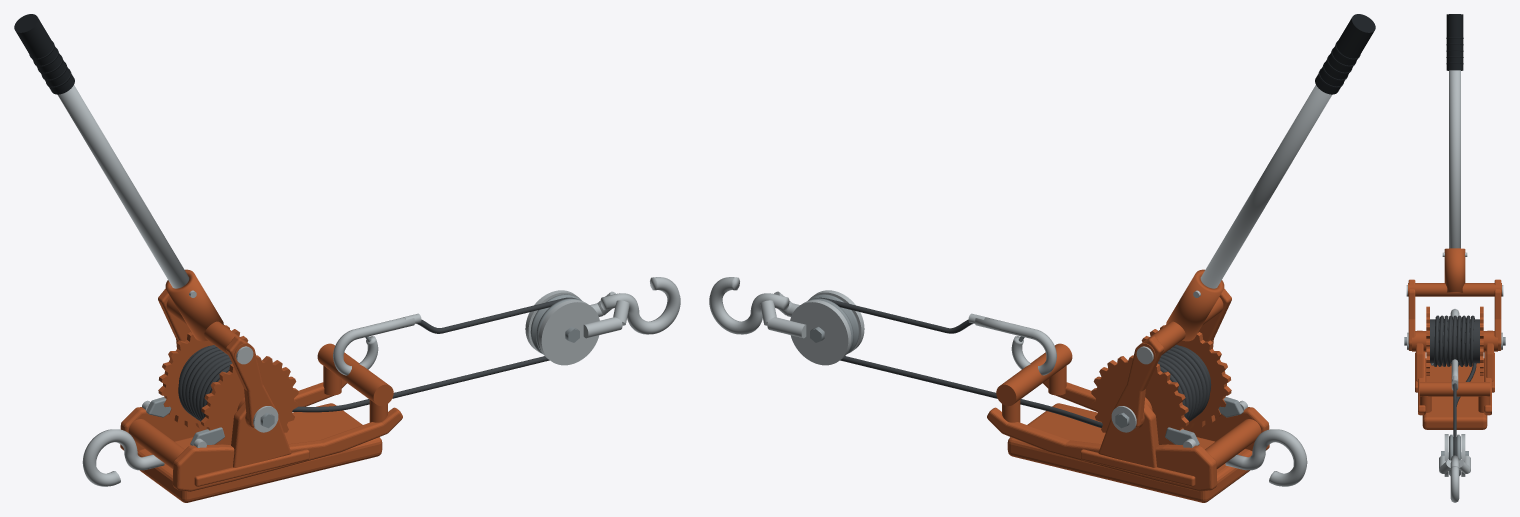
3 renders of one model, left to right at view 1: azimuth 30°, elevation 25°; view 2: azimuth 150°, elevation 25°; view 3: azimuth 270°, elevation 25°, orthographic. The views are drawn at different scales.
Parts seen in each view (by area): view 1: Low tray bottom, Continuous wound cable and double line, Hollow inserted steel lever, Curved cast side rail -1, Toothed reel flange -1, Tackle block cheek -1, Frame bearing support -1, Rounded molded lever grip, Fixed rear frame hook, Toothed reel flange 1, Tackle block load hook, Angled hollow lever socket (+7 smaller); view 2: Low tray bottom, Continuous wound cable and double line, Hollow inserted steel lever, Curved cast side rail 1, Toothed reel flange 1, Tackle block cheek 1, Frame bearing support 1, Rounded molded lever grip, Fixed rear frame hook, Toothed reel flange -1, Tackle block load hook, Angled hollow lever socket (+7 smaller); view 3: Low tray bottom, Continuous wound cable and double line, Hollow inserted steel lever, Yoke upper crossbridge, Cable drum core, Raised front hook anchor crossbar, Rounded molded lever grip, Angled hollow lever socket, Raised lever fork -1, Raised lever fork 1, Tackle block load hook, Frame bearing support -1 (+13 smaller).
Boxes of the visible parts, <box> form: Low tray bottom: <box>137,403,382,502</box>; Continuous wound cable and double line: <box>178,297,576,421</box>; Hollow inserted steel lever: <box>58,85,189,288</box>; Curved cast side rail -1: <box>172,407,402,491</box>; Toothed reel flange -1: <box>201,355,298,444</box>; Tackle block cheek -1: <box>538,300,599,365</box>; Frame bearing support -1: <box>231,401,291,467</box>; Rounded molded lever grip: <box>14,14,74,94</box>; Fixed rear frame hook: <box>82,429,164,486</box>; Toothed reel flange 1: <box>158,325,248,428</box>; Tackle block load hook: <box>600,277,680,334</box>; Angled hollow lever socket: <box>165,269,223,341</box>; Low tray bottom: <box>1007,403,1252,502</box>; Continuous wound cable and double line: <box>815,297,1210,427</box>; Hollow inserted steel lever: <box>1200,85,1331,288</box>; Curved cast side rail 1: <box>987,407,1217,491</box>; Toothed reel flange 1: <box>1091,355,1188,444</box>; Tackle block cheek 1: <box>790,300,851,365</box>; Frame bearing support 1: <box>1098,401,1158,467</box>; Rounded molded lever grip: <box>1315,14,1375,94</box>; Fixed rear frame hook: <box>1225,429,1307,486</box>; Toothed reel flange -1: <box>1141,325,1231,428</box>; Tackle block load hook: <box>709,277,789,334</box>; Angled hollow lever socket: <box>1166,269,1224,341</box>; Low tray bottom: <box>1422,358,1487,429</box>; Continuous wound cable and double line: <box>1433,315,1476,455</box>; Hollow inserted steel lever: <box>1449,70,1460,248</box>; Yoke upper crossbridge: <box>1408,283,1501,296</box>; Cable drum core: <box>1430,319,1479,363</box>; Raised front hook anchor crossbar: <box>1419,382,1490,396</box>; Rounded molded lever grip: <box>1446,14,1463,70</box>; Angled hollow lever socket: <box>1444,248,1465,292</box>; Raised lever fork -1: <box>1408,279,1415,350</box>; Raised lever fork 1: <box>1494,279,1501,350</box>; Tackle block load hook: <box>1450,455,1459,502</box>; Frame bearing support -1: <box>1416,330,1423,381</box>.
Size of the model in its own units: 0.9925 by 0.7172 by 0.208.
